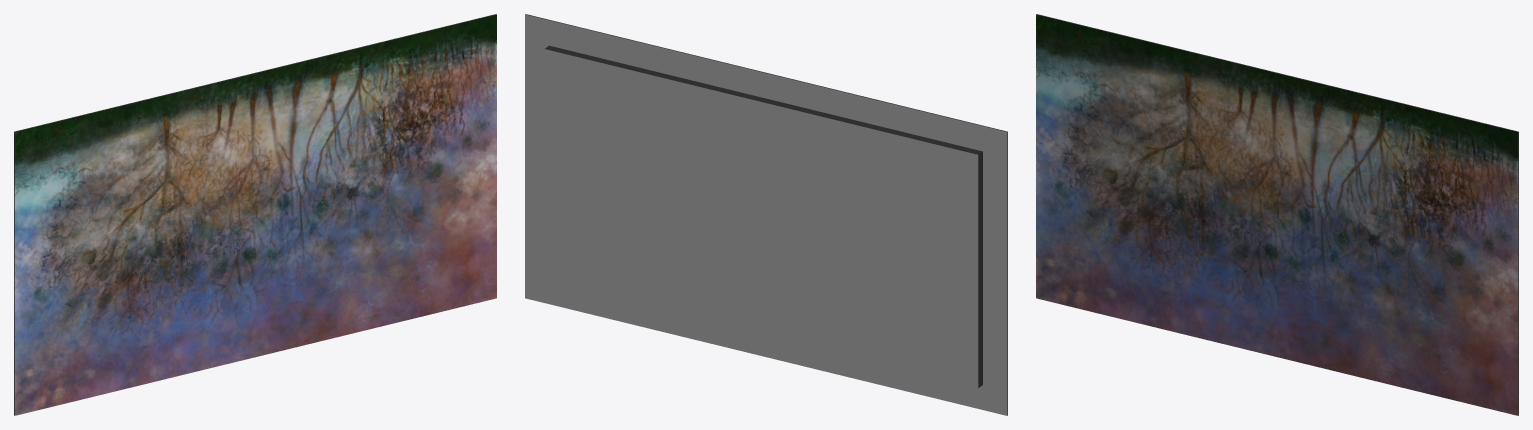
The model's file is hz051_grand_dibond.glb.
The picture shows the model from 3 angles, left to right: view 1: azimuth 30°, elevation 25°; view 2: azimuth 150°, elevation 25°; view 3: azimuth 330°, elevation 25°; orthographic projection.
Visible parts, largest first — view 1: hz051_grand_dibond; view 2: hz051_grand_dibond; view 3: hz051_grand_dibond.
Part boxes in pixels (x1,y1,x2,y2): hz051_grand_dibond: [14, 14, 496, 415]; hz051_grand_dibond: [525, 14, 1007, 415]; hz051_grand_dibond: [1036, 14, 1518, 415].
Bounding box in the file's own units: 1.2 × 0.675 × 0.023.
Materials: 4 (1 with a texture image).
